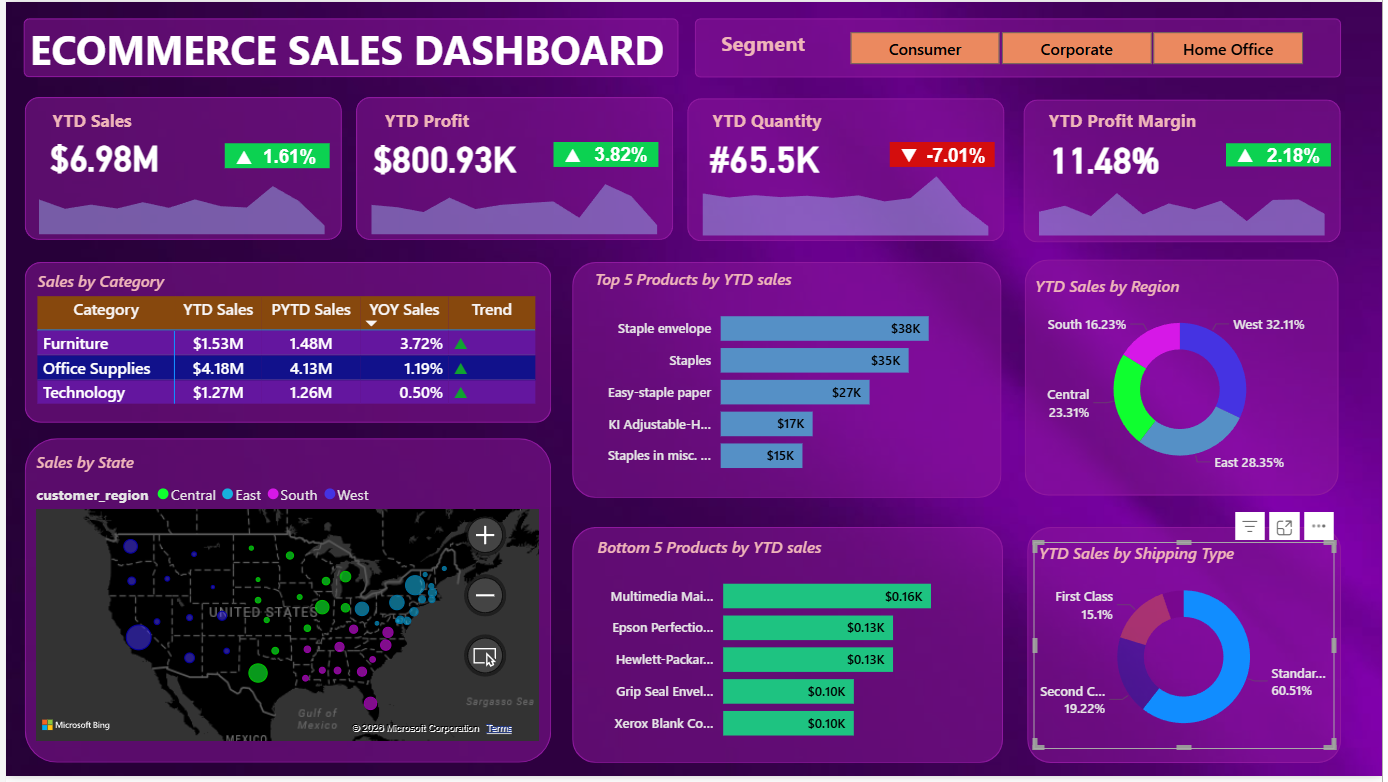

Layout of this report page (visuals, bound fields, positions):
{"tool":"powerbi","page":{"name":"Page 1","canvas":[1280,720],"ordinal":0},"visuals":[{"type":"shape","box":[17.8,87.8,295,133],"z":0},{"type":"shape","box":[203.1,131.7,97.4,23.3],"z":1000},{"type":"shape","box":[325.2,87.8,295,133.1],"z":2000},{"type":"shape","box":[16.5,15.1,609.3,54.9],"z":3000},{"type":"textbox","box":[17.8,13.7,607.9,60.4],"z":4000},{"type":"card","fields":{"Values":["ecommerce_data.YTD Sales"]},"box":[8.2,116.6,167.4,53.5],"z":5000},{"type":"areaChart","fields":{"Category":["Calender.Month"],"Y":["Sum(ecommerce_data.sales_per_order)"]},"box":[16.5,142.7,295,78.2],"z":6000},{"type":"card","fields":{"Values":["ecommerce_data.YOY Sales"]},"box":[222.3,131.7,83.7,27.4],"z":7000},{"type":"textbox","box":[38.4,94.7,86.4,37],"z":8000},{"type":"card","fields":{"Values":["ecommerce_data.YTD Profit"]},"box":[323.8,118,167.4,53.5],"z":9000},{"type":"areaChart","fields":{"Category":["Calender.Month"],"Y":["Sum(ecommerce_data.profit_per_order)"]},"box":[325.1,142.8,295,78.2],"z":10000},{"type":"shape","box":[509.1,130.4,97.4,23.3],"z":11000},{"type":"card","fields":{"Values":["ecommerce_data.YOY Profit"]},"box":[529.7,129,83.7,28.8],"z":12000},{"type":"card","fields":{"Values":["ecommerce_data.Profit Icon"]},"box":[509.1,130.4,35.7,27.4],"z":13000},{"type":"textbox","box":[347.2,94.7,101.5,37],"z":14000},{"type":"shape","box":[633.8,89,295,133.1],"z":15000},{"type":"areaChart","fields":{"Category":["Calender.Month"],"Y":["Sum(ecommerce_data.order_quantity)"]},"box":[633.7,144,295,78.2],"z":16000},{"type":"shape","box":[822,130.4,97.4,23.3],"z":17000},{"type":"card","fields":{"Values":["ecommerce_data.YOY Qty"]},"box":[842.4,130.2,83.7,28.8],"z":18000},{"type":"card","fields":{"Values":["ecommerce_data.Qty Icon"]},"box":[822,130.4,35.7,27.4],"z":19000},{"type":"textbox","box":[651.8,94.7,115.3,37],"z":20000},{"type":"card","fields":{"Values":["ecommerce_data.YTD Concated Qty"]},"box":[621.6,118,167.4,53.5],"z":21000},{"type":"shape","box":[946.8,90.6,295,133.1],"z":22000},{"type":"areaChart","fields":{"Category":["Calender.Month"],"Y":["ecommerce_data.Profit Margin"]},"box":[946.6,144.2,295,78.2],"z":23000},{"type":"shape","box":[1134.8,131.7,97.4,22],"z":24000},{"type":"card","fields":{"Values":["ecommerce_data.YOY PMG"]},"box":[1155.4,130.3,83.7,28.8],"z":25000},{"type":"card","fields":{"Values":["ecommerce_data.PMG Icon"]},"box":[1134.9,130.5,35.7,27.4],"z":26000},{"type":"textbox","box":[964.7,94.7,170.2,37],"z":27000},{"type":"card","fields":{"Values":["ecommerce_data.YTD PMG"]},"box":[938.7,118.1,167.4,53.5],"z":28000},{"type":"shape","box":[17.8,241.5,489.9,149.6],"z":29000},{"type":"pivotTable","title":"Sales by Category","fields":{"Rows":["ecommerce_data.category_name"],"Values":["ecommerce_data.YTD Sales","ecommerce_data.PYTD Sales","ecommerce_data.YOY Sales","ecommerce_data.Sales Icon"]},"box":[24.7,248.4,484.4,137.2],"z":30000},{"type":"shape","box":[17.8,406.2,489.9,301.9],"z":31000},{"type":"map","title":"Sales by State","fields":{"Y":["us_state_long_lat_codes.latitude"],"X":["us_state_long_lat_codes.longitude"],"Size":["ecommerce_data.YTD Sales"],"Series":["ecommerce_data.customer_region"]},"box":[23.3,417.2,477.5,274.4],"z":32000},{"type":"card","fields":{"Values":["ecommerce_data.Sales Icon"]},"box":[203.1,130.4,35.7,24.7],"z":33000},{"type":"shape","box":[526.9,241.5,399.3,219.6],"z":34000},{"type":"shape","box":[526.9,488.5,400.7,219.6],"z":35000},{"type":"barChart","title":"Top 5 Products by YTD sales","fields":{"Category":["ecommerce_data.product_name"],"Y":["ecommerce_data.YTD Sales"]},"box":[543.6,247.9,364.4,203.7],"z":36000},{"type":"barChart","title":"Bottom 5 Products by YTD sales","fields":{"Category":["ecommerce_data.product_name"],"Y":["ecommerce_data.YTD Sales"]},"box":[544.8,496.9,364.4,203.7],"z":37000},{"type":"shape","box":[947.2,239.3,292,219.6],"z":38000},{"type":"shape","box":[949.7,488.3,292,219.6],"z":39000},{"type":"donutChart","title":"YTD Sales by Region","fields":{"Category":["ecommerce_data.customer_region"],"Y":["ecommerce_data.YTD Sales"]},"box":[952.2,254,279.8,193.9],"z":40000},{"type":"donutChart","title":"YTD Sales by Shipping Type","fields":{"Category":["ecommerce_data.shipping_type"],"Y":["ecommerce_data.YTD Sales"]},"box":[955.8,501.8,279.8,193.9],"z":41000},{"type":"shape","box":[640.5,14.7,601.2,55.2],"z":42000},{"type":"slicer","fields":{"Values":["ecommerce_data.customer_segment"]},"box":[759.5,20.9,471.2,44.2],"z":43000},{"type":"textbox","box":[660.1,20.9,99.4,42.9],"z":44000}]}

Visuals, with their boxes in screenshot pixels (x1, y1, x2, y2), scaled from the page's 1280x720 canvas onto the 1388x782 screenshot:
shape: [19, 95, 339, 240]
shape: [220, 143, 326, 168]
shape: [353, 95, 673, 240]
shape: [18, 16, 679, 76]
textbox: [19, 15, 678, 80]
card - ecommerce_data.YTD Sales: [9, 127, 190, 185]
areaChart - Calender.Month x Sum(ecommerce_data.sales_per_order): [18, 155, 338, 240]
card - ecommerce_data.YOY Sales: [241, 143, 332, 173]
textbox: [42, 103, 135, 143]
card - ecommerce_data.YTD Profit: [351, 128, 533, 186]
areaChart - Calender.Month x Sum(ecommerce_data.profit_per_order): [353, 155, 672, 240]
shape: [552, 142, 658, 167]
card - ecommerce_data.YOY Profit: [574, 140, 665, 171]
card - ecommerce_data.Profit Icon: [552, 142, 591, 171]
textbox: [376, 103, 487, 143]
shape: [687, 97, 1007, 241]
areaChart - Calender.Month x Sum(ecommerce_data.order_quantity): [687, 156, 1007, 241]
shape: [891, 142, 997, 167]
card - ecommerce_data.YOY Qty: [913, 141, 1004, 173]
card - ecommerce_data.Qty Icon: [891, 142, 930, 171]
textbox: [707, 103, 832, 143]
card - ecommerce_data.YTD Concated Qty: [674, 128, 856, 186]
shape: [1027, 98, 1347, 243]
areaChart - Calender.Month x ecommerce_data.Profit Margin: [1026, 157, 1346, 242]
shape: [1231, 143, 1336, 167]
card - ecommerce_data.YOY PMG: [1253, 142, 1344, 173]
card - ecommerce_data.PMG Icon: [1231, 142, 1269, 171]
textbox: [1046, 103, 1231, 143]
card - ecommerce_data.YTD PMG: [1018, 128, 1199, 186]
shape: [19, 262, 551, 425]
"Sales by Category" pivotTable: [27, 270, 552, 419]
shape: [19, 441, 551, 769]
"Sales by State" map: [25, 453, 543, 751]
card - ecommerce_data.Sales Icon: [220, 142, 259, 168]
shape: [571, 262, 1004, 501]
shape: [571, 531, 1006, 769]
"Top 5 Products by YTD sales" barChart: [589, 269, 985, 490]
"Bottom 5 Products by YTD sales" barChart: [591, 540, 986, 761]
shape: [1027, 260, 1344, 498]
shape: [1030, 530, 1346, 769]
"YTD Sales by Region" donutChart: [1033, 276, 1336, 486]
"YTD Sales by Shipping Type" donutChart: [1036, 545, 1340, 756]
shape: [695, 16, 1346, 76]
slicer - ecommerce_data.customer_segment: [824, 23, 1335, 71]
textbox: [716, 23, 824, 69]
